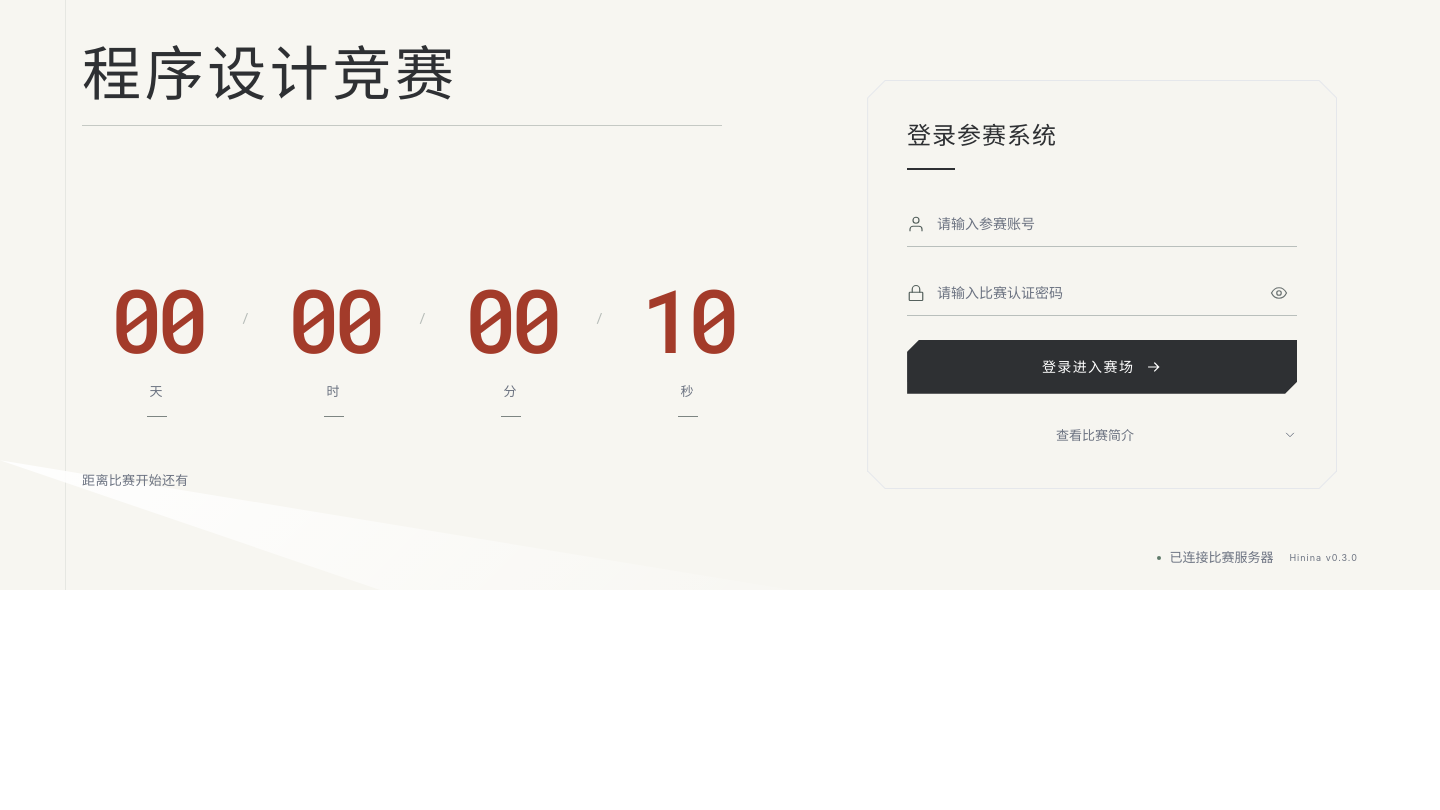
login entry lifecycle › renders the original sanitized Markdown brief including relative images
Click the button "查看比赛简介".
click(1102, 435)  # box [907,422,1297,449]
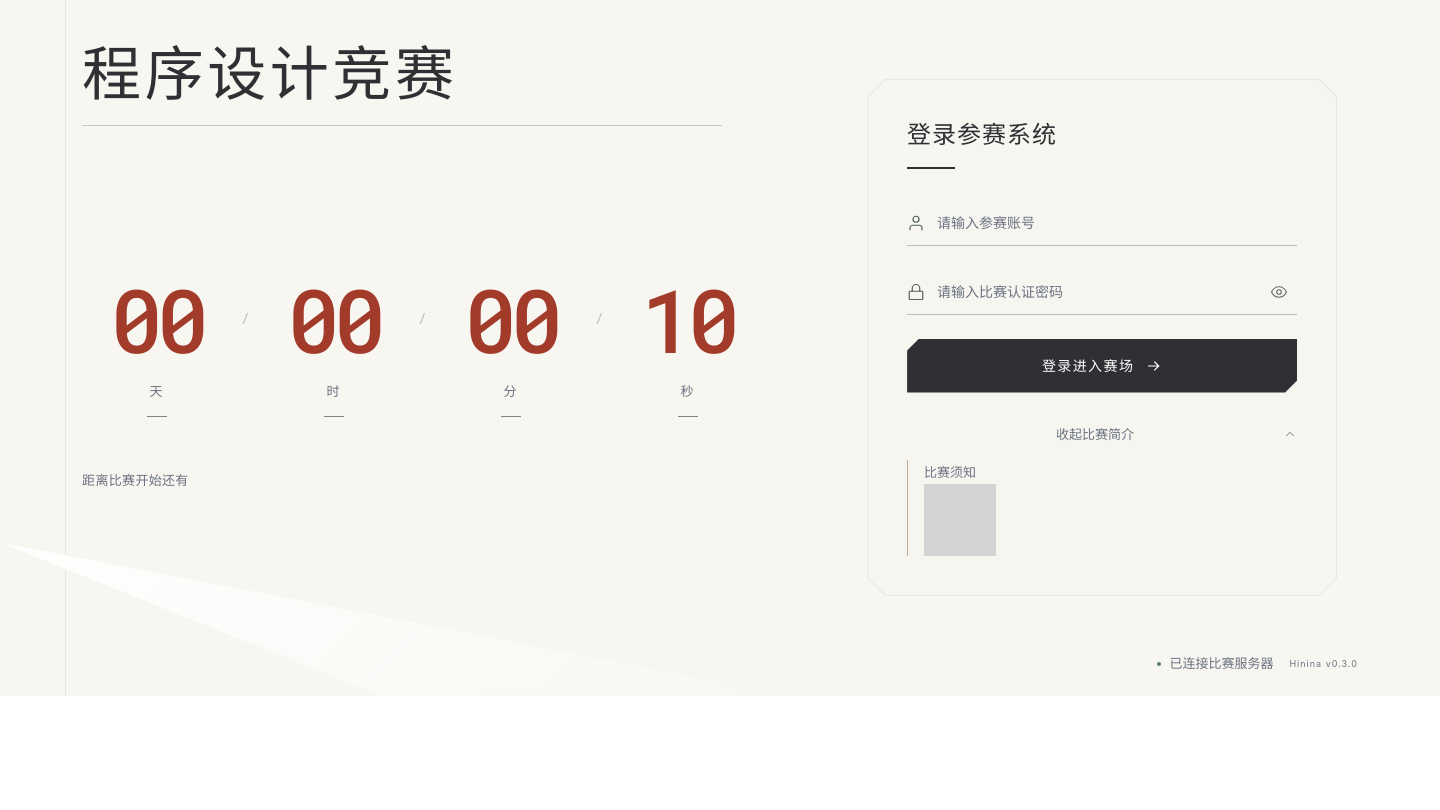
expect the heading "比赛须知" is shown: met, box [924,464,976,480]
